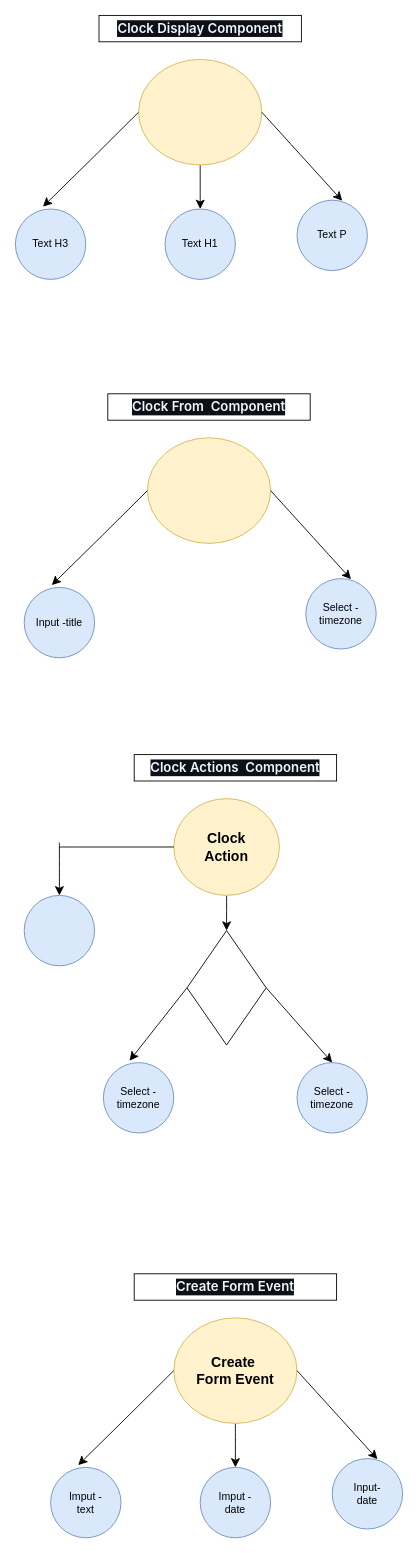
Some shapes in this 418 by 1553 pixel diagram are drawn without their labels. Here are the shapes that lost their labels. From the top down, the centre of each, then its label:
At [200,112]: "Clock Display and labels".
At [209,490]: "Clock From".
At [59,930]: "Button - Edit".
At [226,987]: "Either One".
